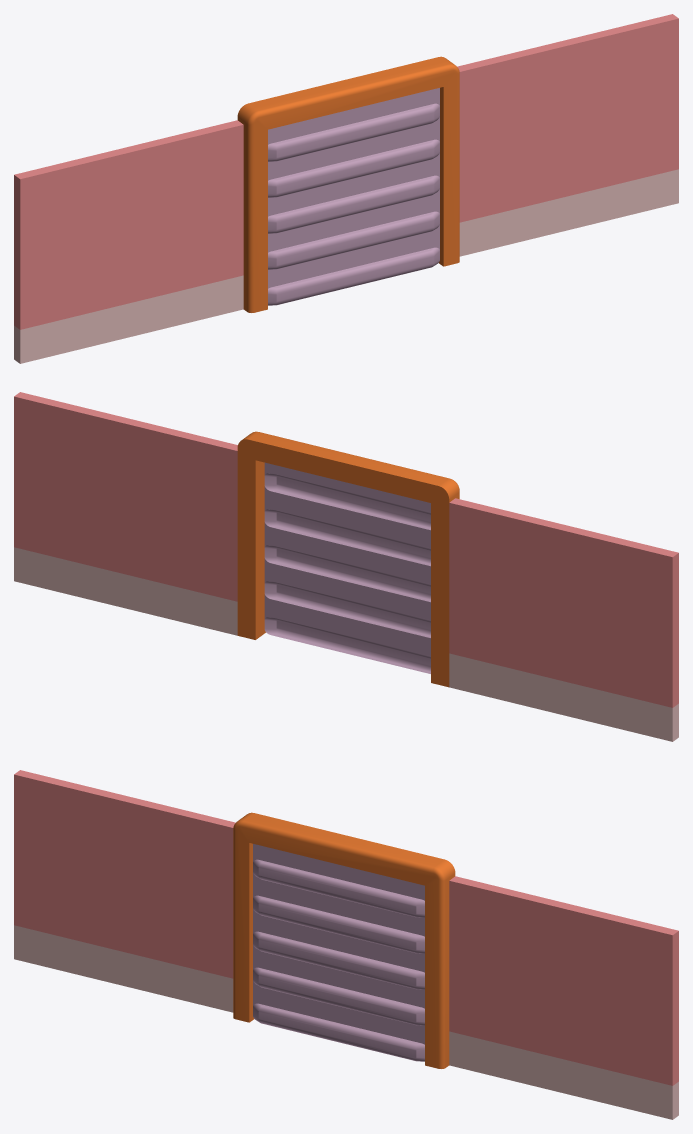
The model's file is kepenk.fbx.
3 views of the same model, one above another, from view 1: azimuth 30°, elevation 25°; view 2: azimuth 150°, elevation 25°; view 3: azimuth 330°, elevation 25° (orthographic).
Parts seen in each view (by area): view 1: duvarSol, duvarSag, kepenk, kepenkDIs; view 2: duvarSol, duvarSag, kepenk, kepenkDIs; view 3: duvarSag, duvarSol, kepenk, kepenkDIs.
Boxes of the visible parts, x1=… form: duvarSol: x1=14, y1=120, x2=243, y2=363; duvarSag: x1=457, y1=14, x2=678, y2=256; kepenk: x1=268, y1=88, x2=439, y2=305; kepenkDIs: x1=237, y1=56, x2=459, y2=312; duvarSol: x1=449, y1=498, x2=678, y2=741; duvarSag: x1=14, y1=392, x2=237, y2=635; kepenk: x1=264, y1=462, x2=430, y2=673; kepenkDIs: x1=237, y1=431, x2=459, y2=687; duvarSag: x1=449, y1=876, x2=678, y2=1119; duvarSol: x1=14, y1=770, x2=235, y2=1012; kepenk: x1=253, y1=844, x2=424, y2=1061; kepenkDIs: x1=233, y1=812, x2=455, y2=1068.
Size of the model in its own units: 1117 by 322 by 36.35.
